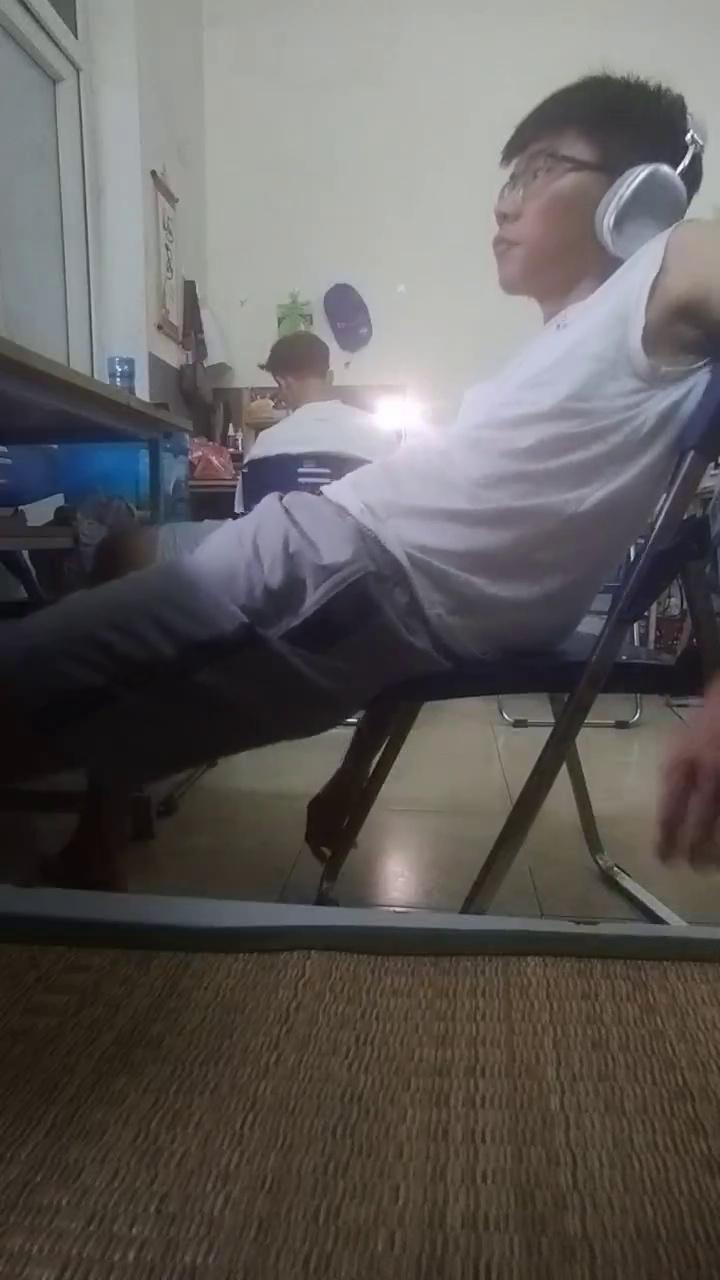BadPosture: (132, 76, 719, 888)
